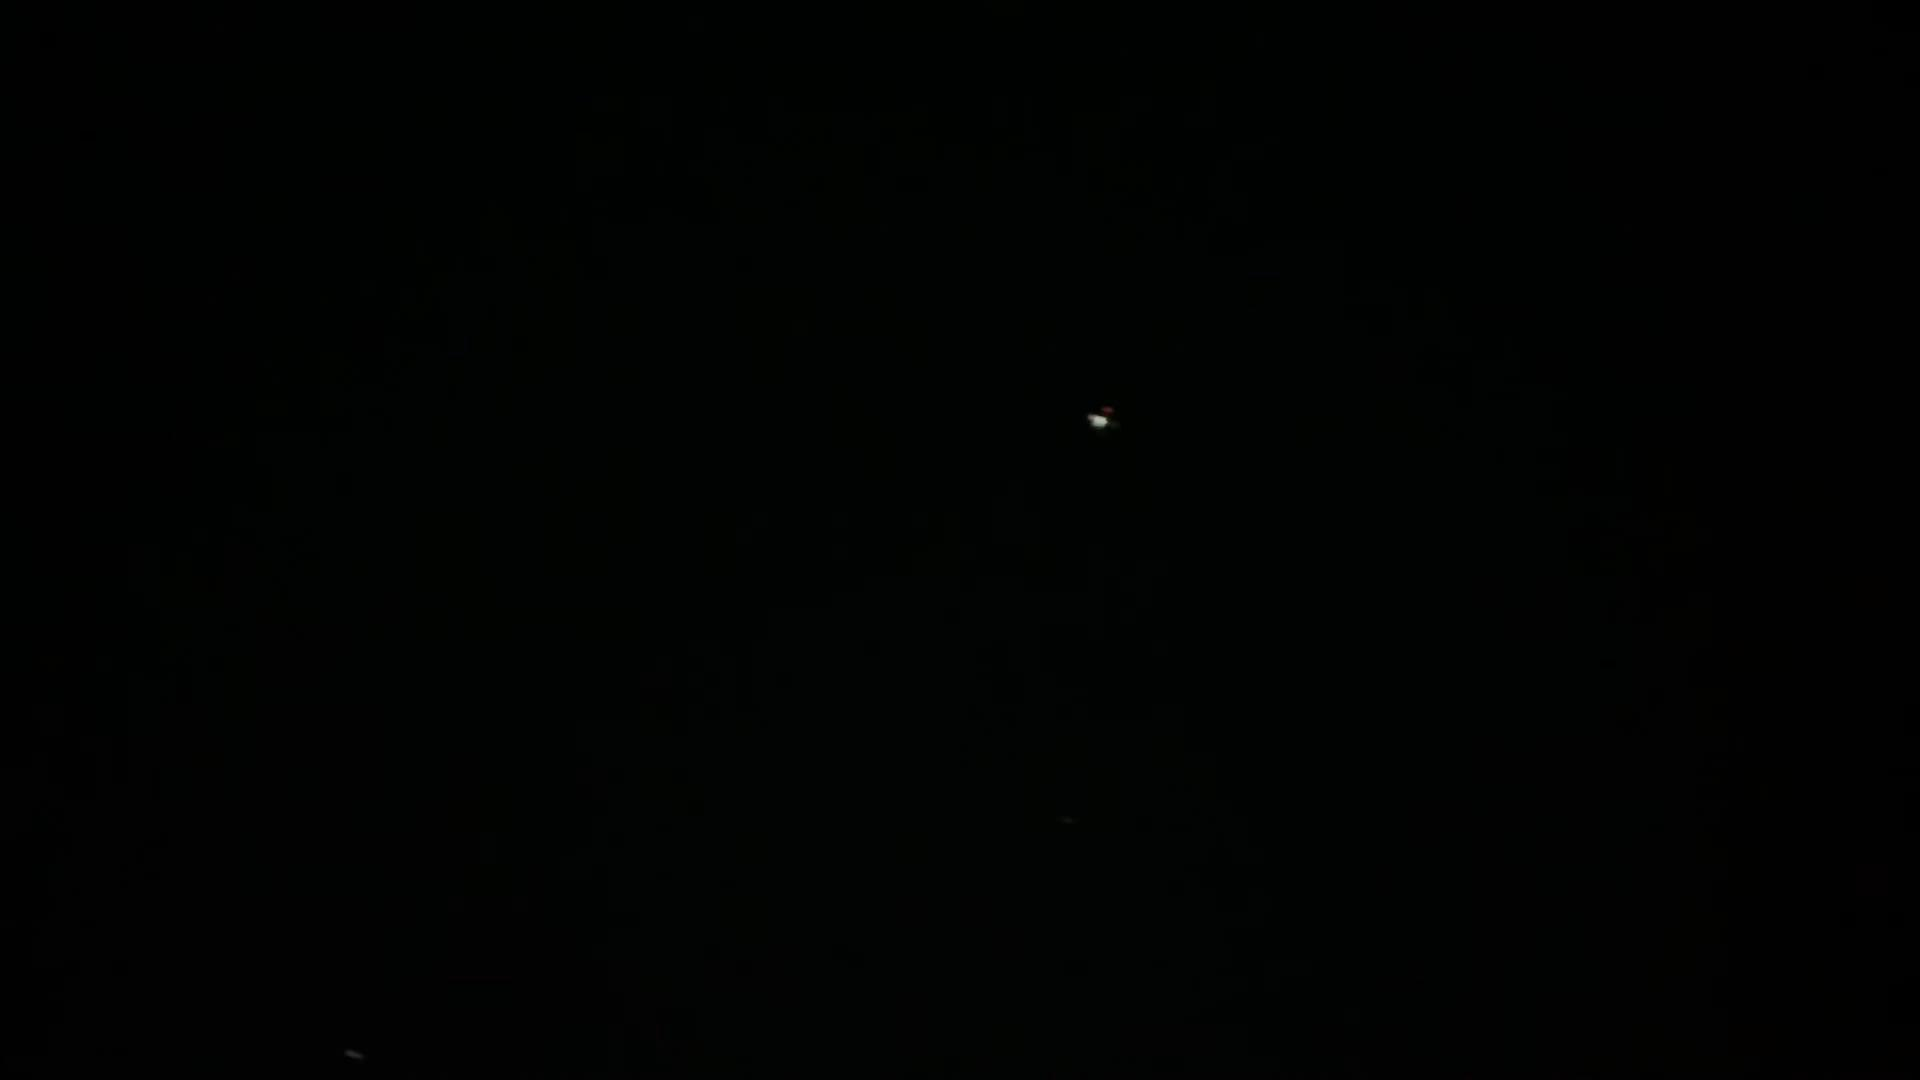Plane: (1077, 392, 1129, 458)
